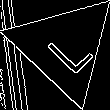L_NW: (35, 18, 94, 76)
